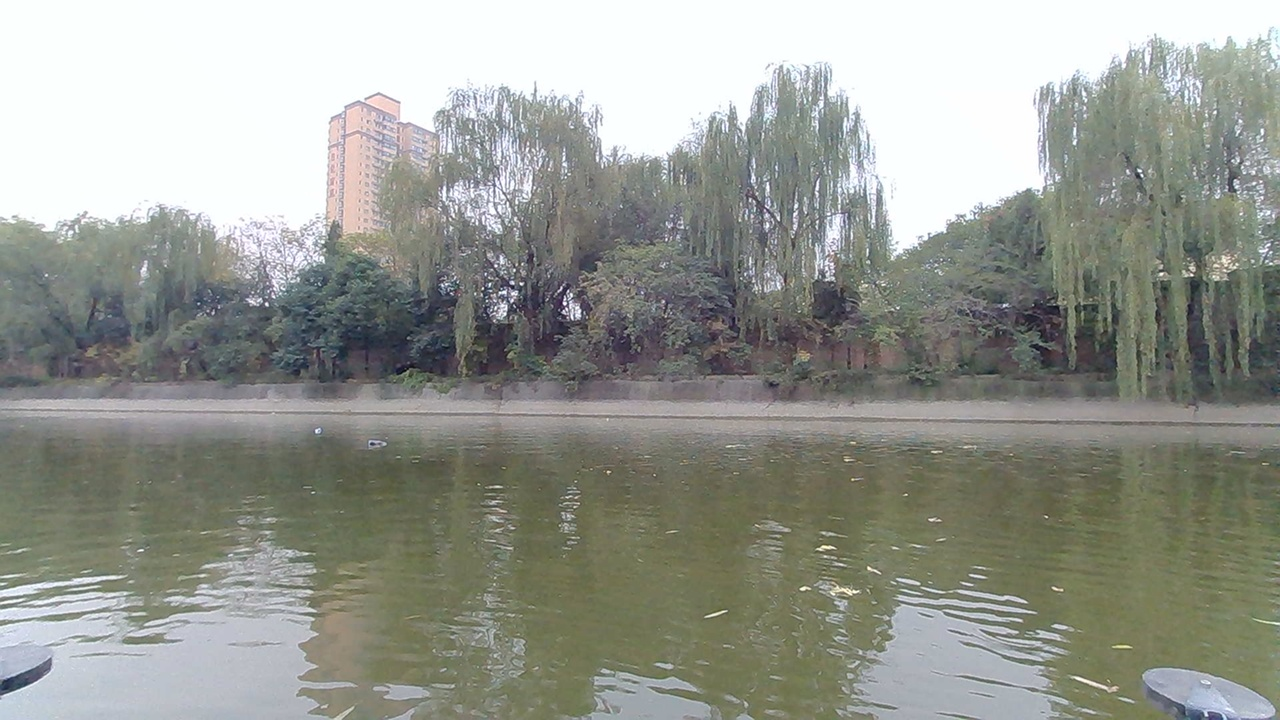bottle: (358, 425, 403, 457), (301, 416, 334, 439)
